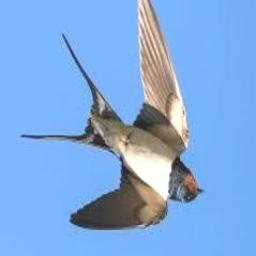Swallow: (20, 0, 204, 230)
